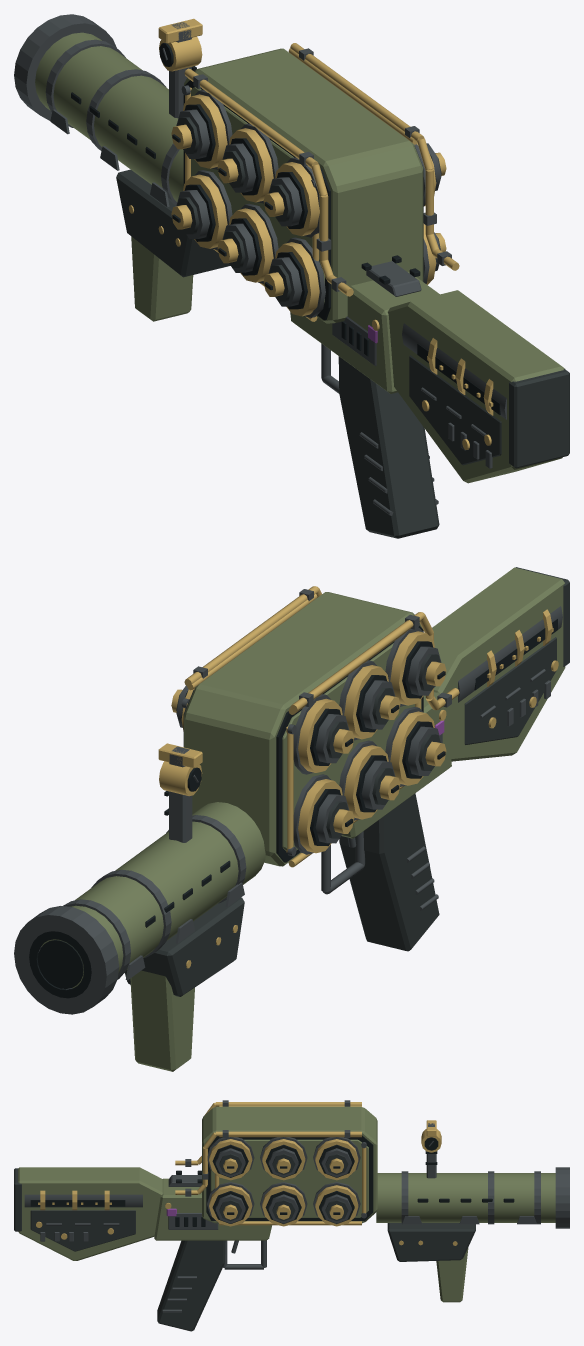
File: grenade_3.glb
3 renders of one model, top to bottom at view 1: azimuth 30°, elevation 25°; view 2: azimuth 150°, elevation 25°; view 3: azimuth 270°, elevation 25°, orthographic. The views are drawn at different scales.
Visible parts, largest first — view 1: Weapon_grenade_v1; view 2: Weapon_grenade_v1; view 3: Weapon_grenade_v1.
Part boxes in pixels (<box>): Weapon_grenade_v1: <box>14,14,569,538</box>; Weapon_grenade_v1: <box>14,567,569,1071</box>; Weapon_grenade_v1: <box>14,1100,569,1331</box>.
Bounding box in the file's own units: 0.162 × 0.3222 × 0.775.
